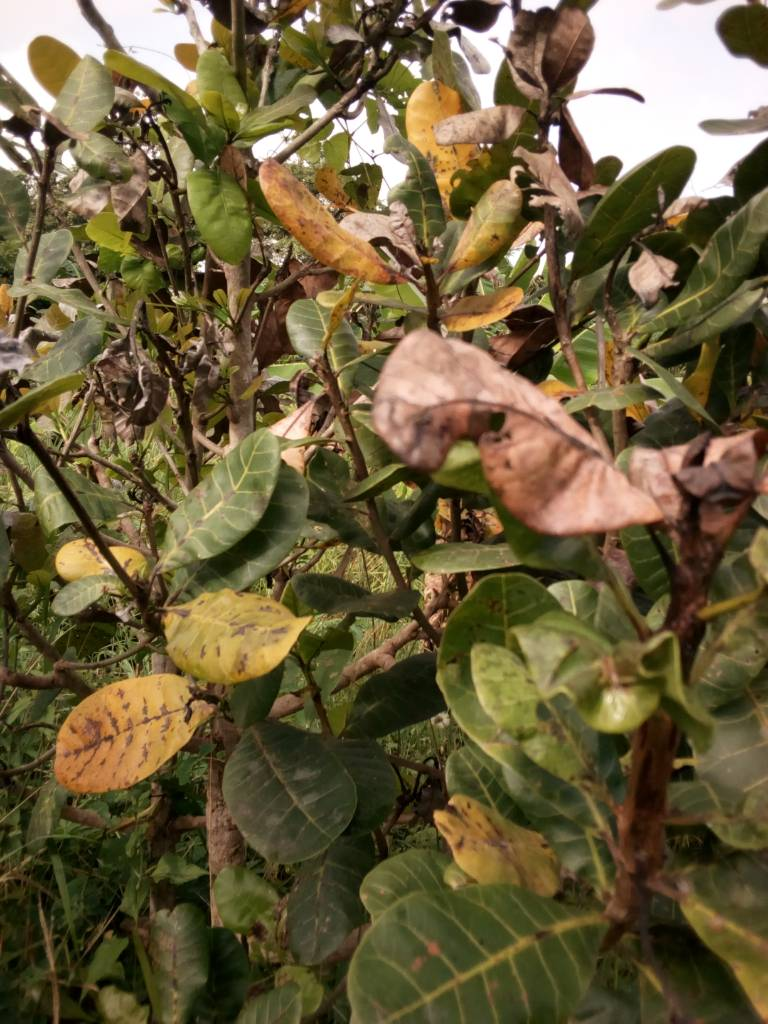Anthracnose: (50, 666, 240, 797), (254, 149, 407, 286), (149, 589, 321, 682), (433, 794, 571, 899)
